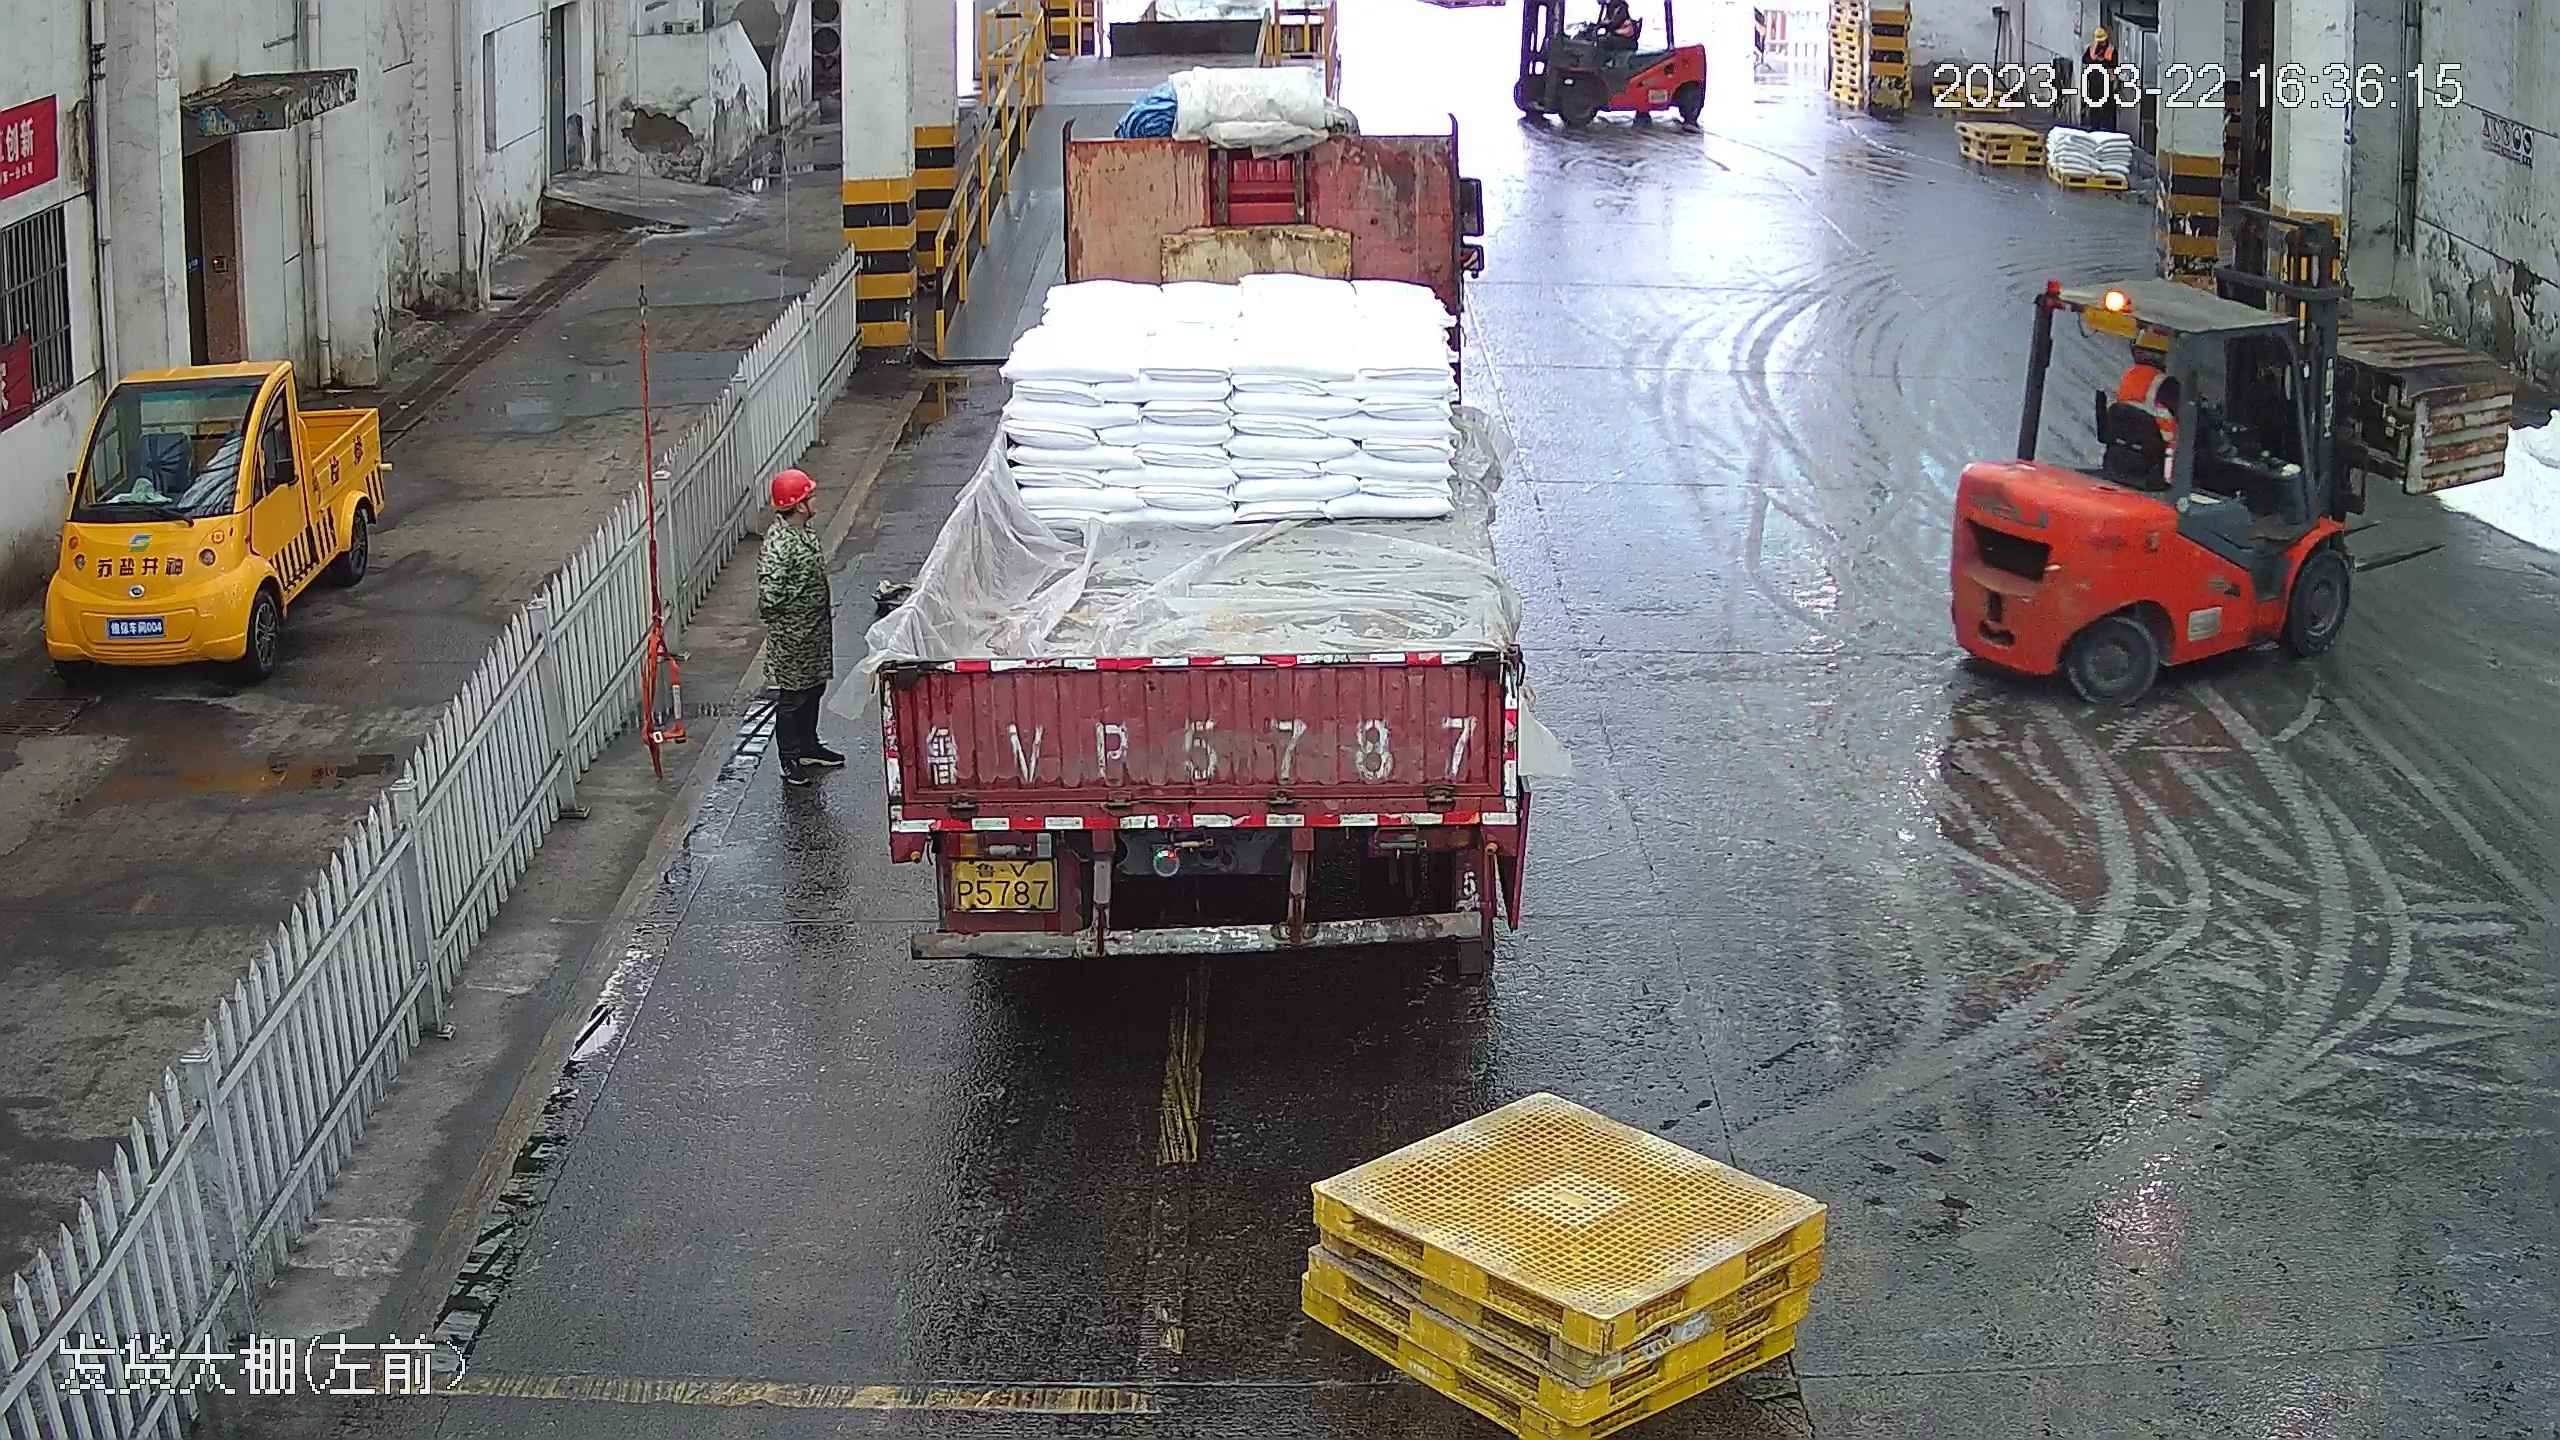head: (754, 463, 838, 575), (2103, 322, 2186, 406)
helmet: (765, 464, 820, 508), (2129, 324, 2177, 358)
people: (751, 461, 850, 794)
truck: (860, 32, 1538, 965)
